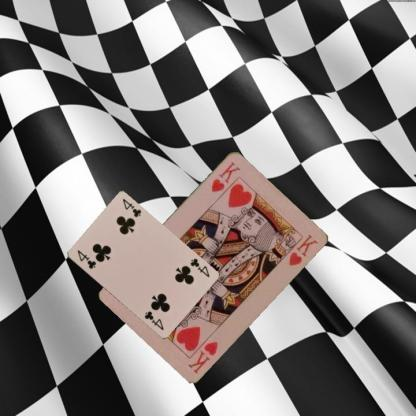4c: (75, 248, 97, 270), (188, 256, 210, 278)
Kh: (185, 338, 219, 374), (209, 158, 242, 194)
